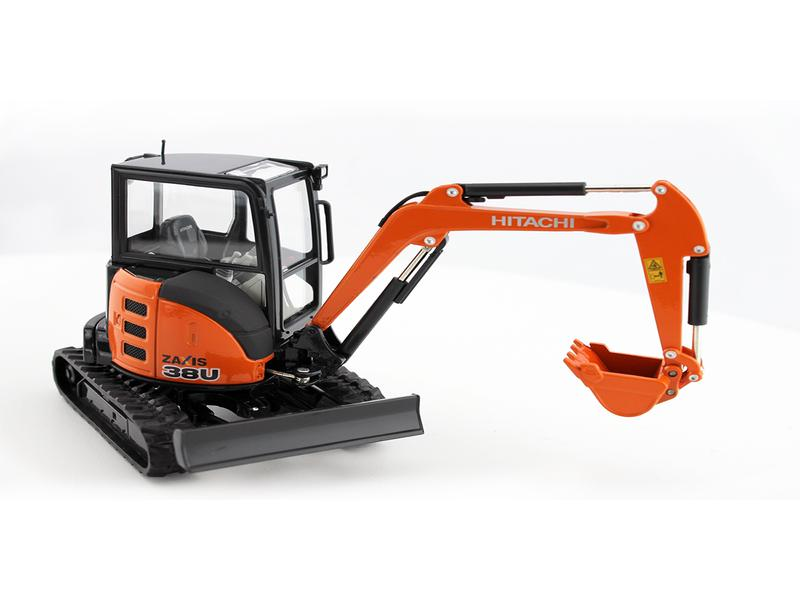shovel: (49, 130, 719, 480)
